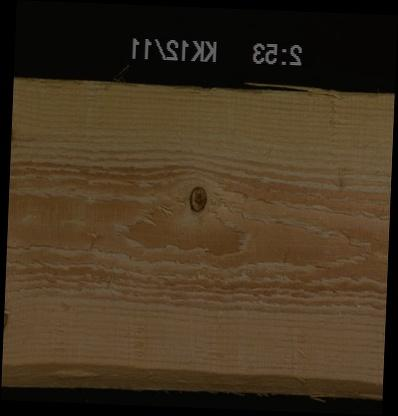dry_knot: (187, 183, 209, 213)
wave: (0, 363, 382, 396)
